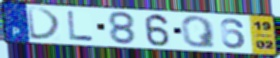6: (143, 13, 171, 48), (220, 17, 248, 50)
8: (107, 11, 137, 46)
D: (25, 6, 64, 41)
L: (66, 10, 95, 42)
Q: (180, 15, 218, 49)
